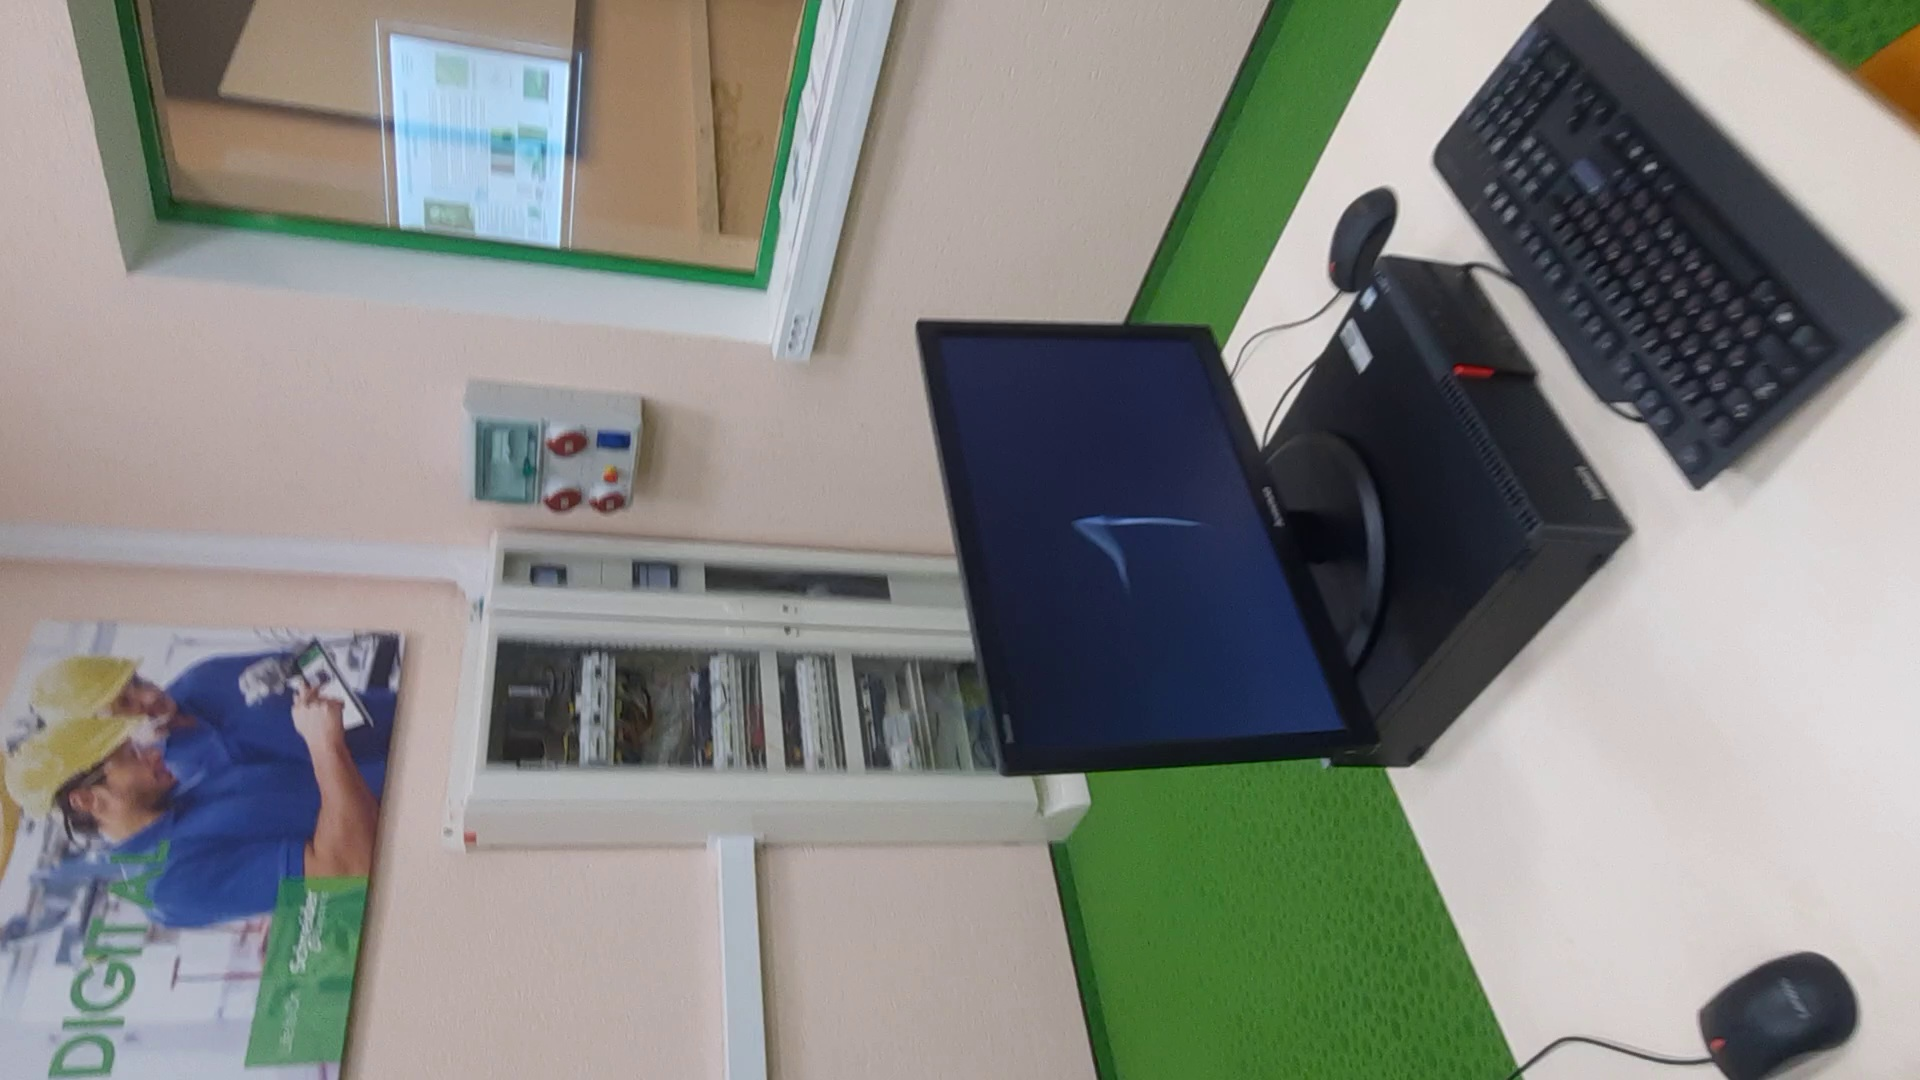stand1: (452, 525, 951, 858)
